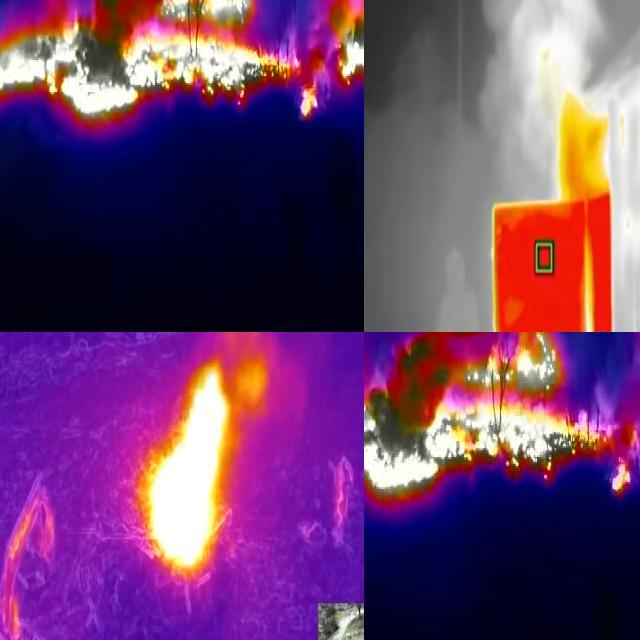fire: (365, 333, 639, 510), (1, 1, 318, 127), (145, 360, 233, 572), (560, 111, 610, 207)
